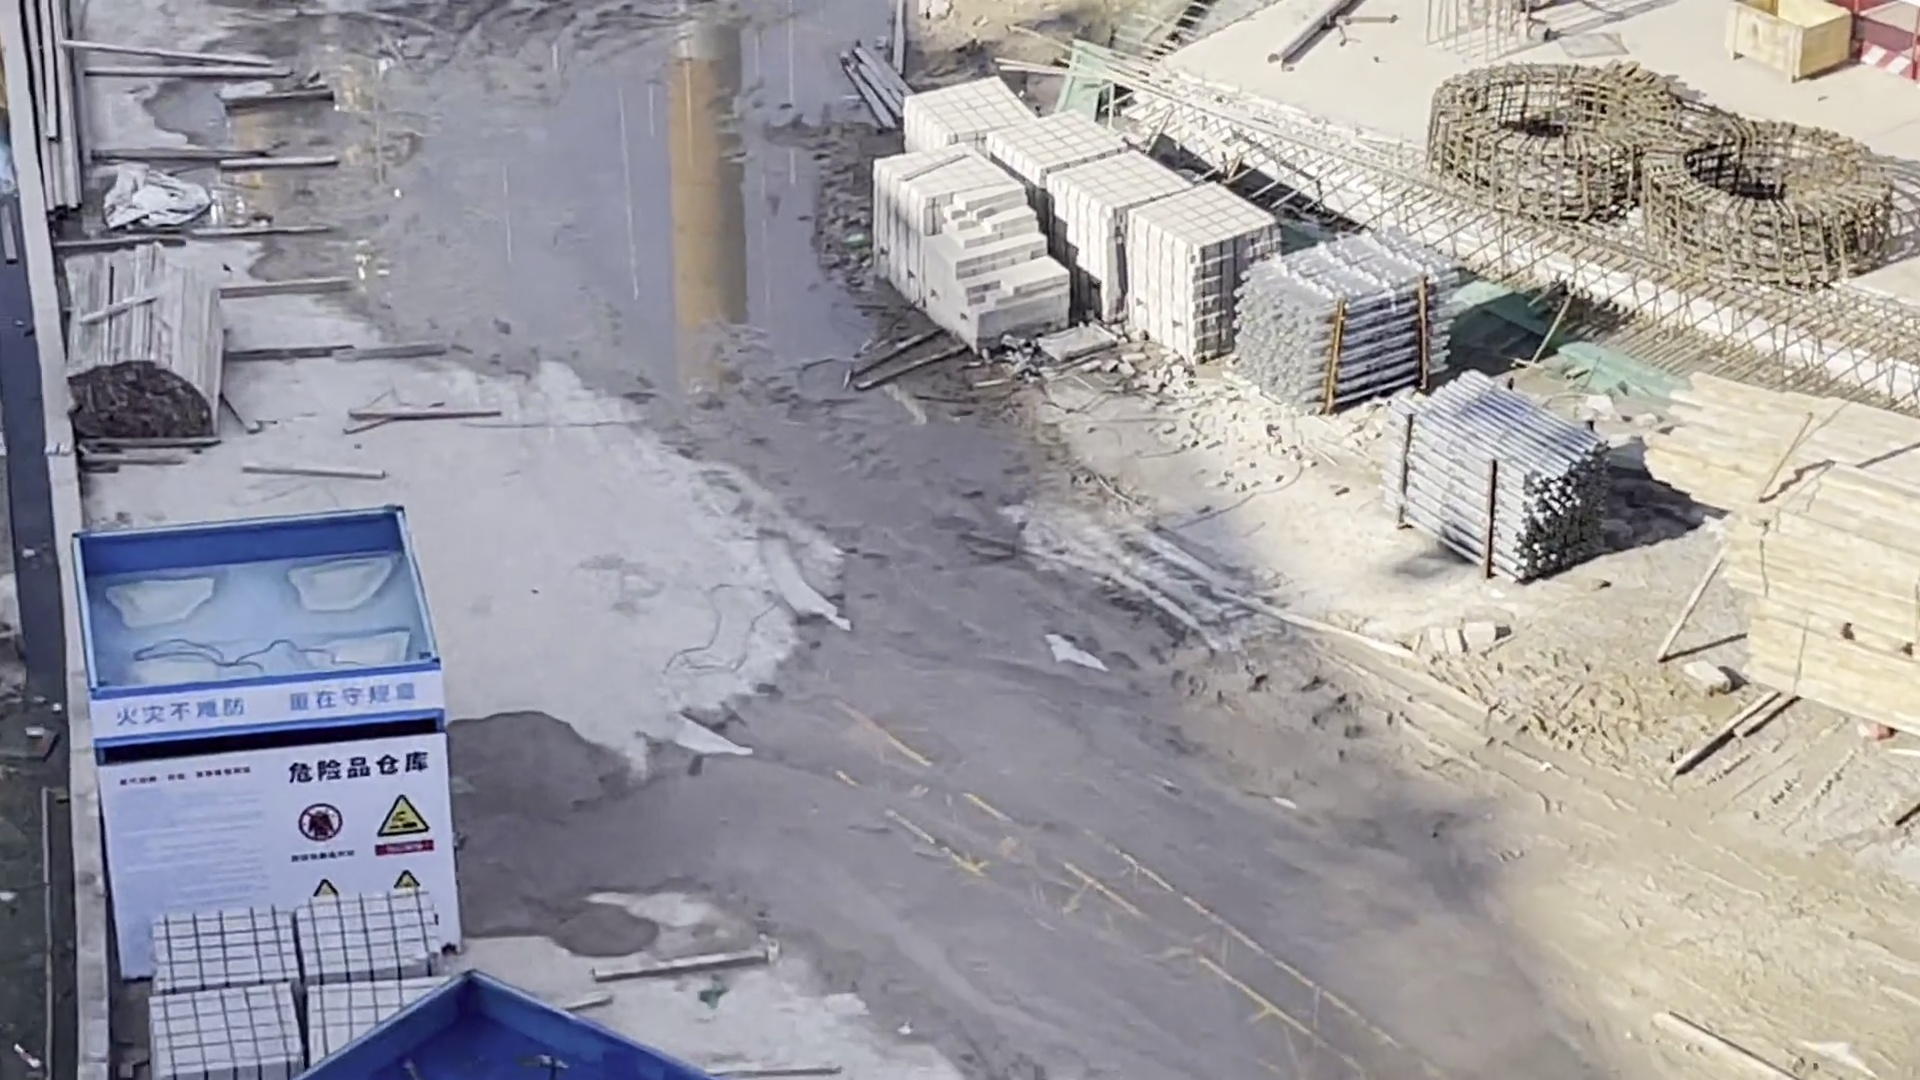brick: (880, 76, 1191, 357), (141, 894, 410, 1080)
scaffold: (1354, 378, 1596, 531), (1203, 251, 1447, 367)
slogan: (100, 669, 427, 725)
wood: (1706, 382, 1920, 705)
